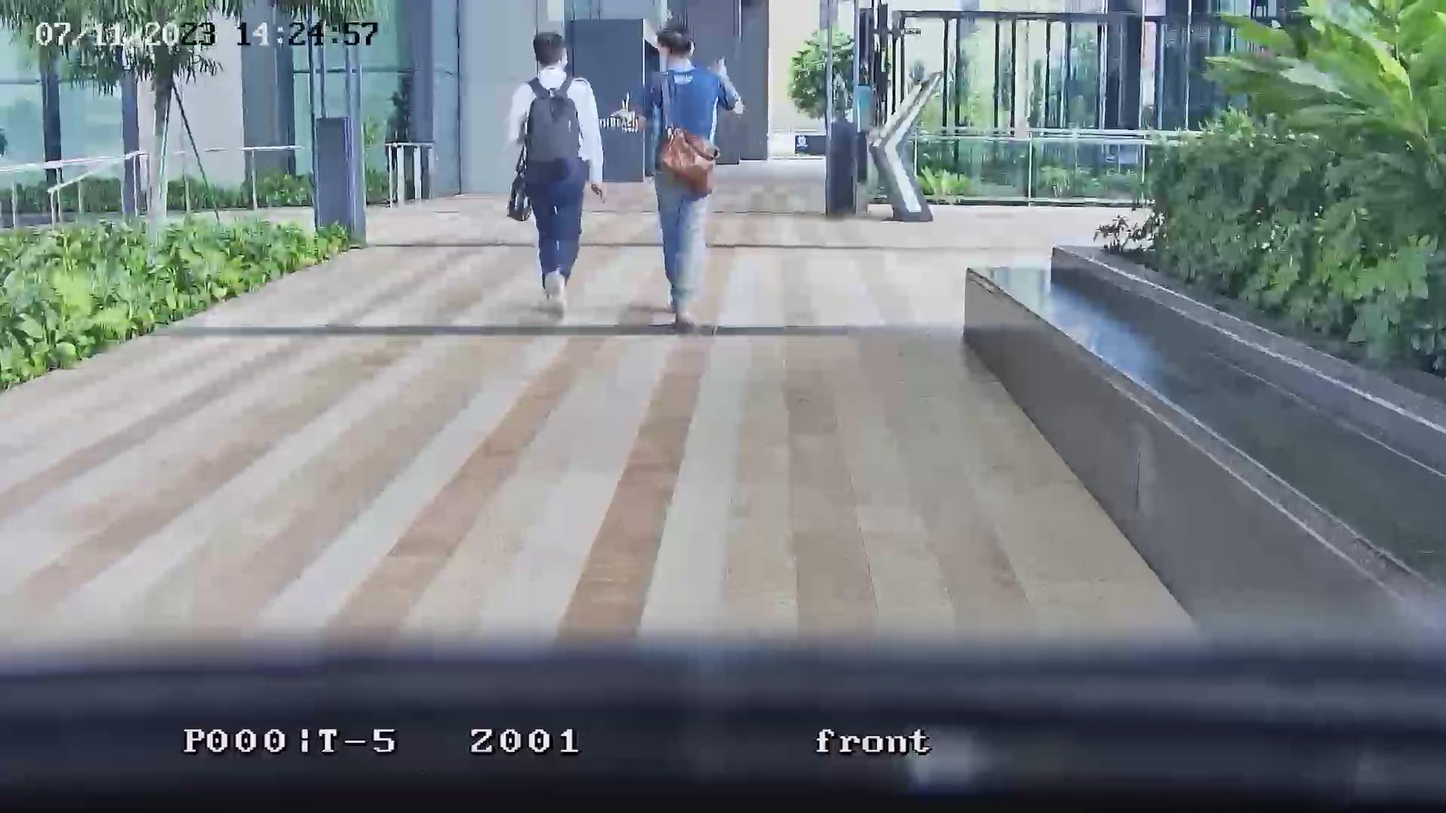person: (640, 20, 744, 331), (505, 31, 606, 316)
